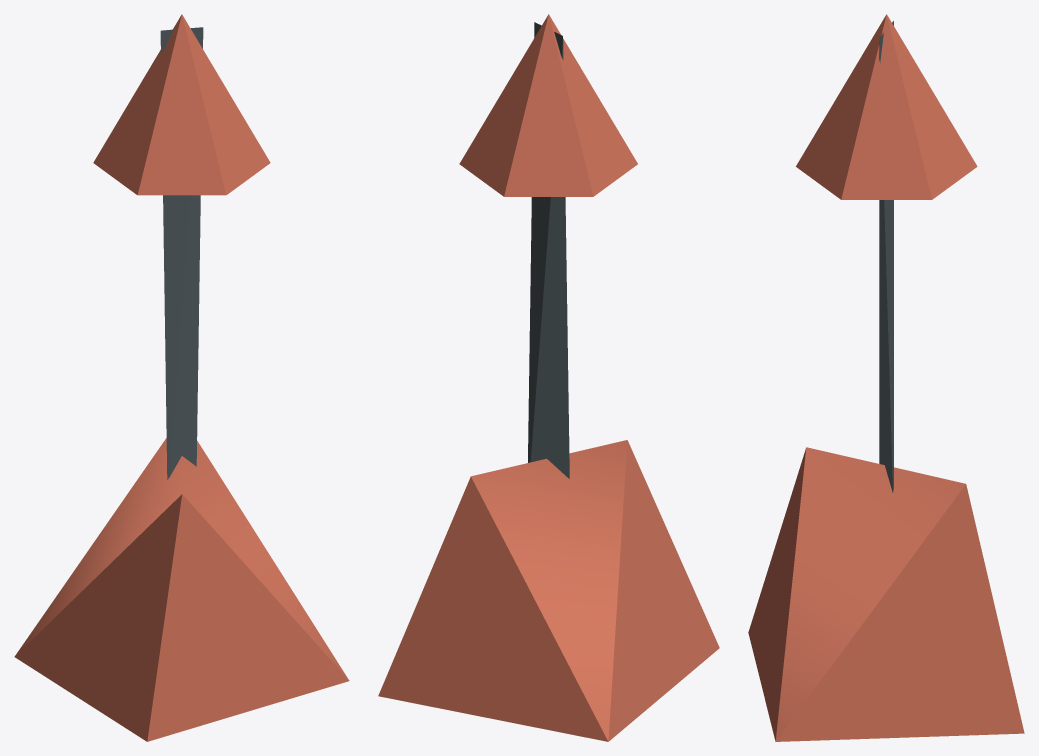
File: harbor.buoy.lod2.glb
3 renders of one model, left to right at view 1: azimuth 30°, elevation 25°; view 2: azimuth 150°, elevation 25°; view 3: azimuth 270°, elevation 25°, orthographic. The views are drawn at different scales.
Visible parts, largest first — view 1: Float, Mark, Mast; view 2: Float, Mark, Mast; view 3: Float, Mark, Mast.
Part boxes in pixels (x1=…): Float: x1=14, y1=438, x2=349, y2=741; Mark: x1=93, y1=14, x2=270, y2=195; Mast: x1=160, y1=27, x2=203, y2=479; Float: x1=378, y1=440, x2=719, y2=741; Mark: x1=459, y1=14, x2=637, y2=196; Mast: x1=528, y1=22, x2=569, y2=478; Float: x1=748, y1=447, x2=1024, y2=741; Mark: x1=796, y1=14, x2=977, y2=199; Mast: x1=879, y1=21, x2=893, y2=492.
Bounding box in the file's own units: 0.797 × 2.2 × 0.8203.
